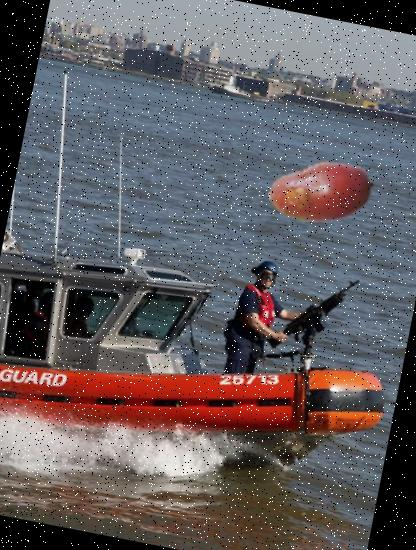Potato: (259, 130, 383, 254)
